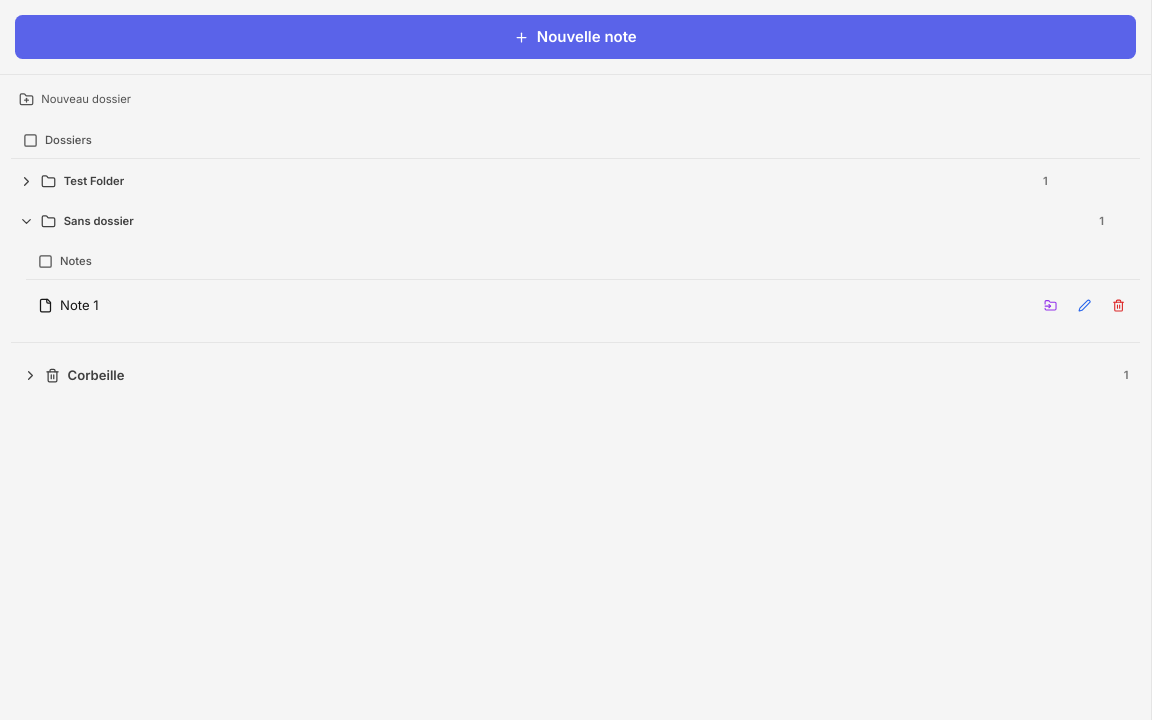
Test: Sidebar › Trash Management › should show deleted items in trash
The image size is (1152, 720).
Click the text "Corbeille".
click(96, 375)  # box x1=68 y1=366 x2=124 y2=385
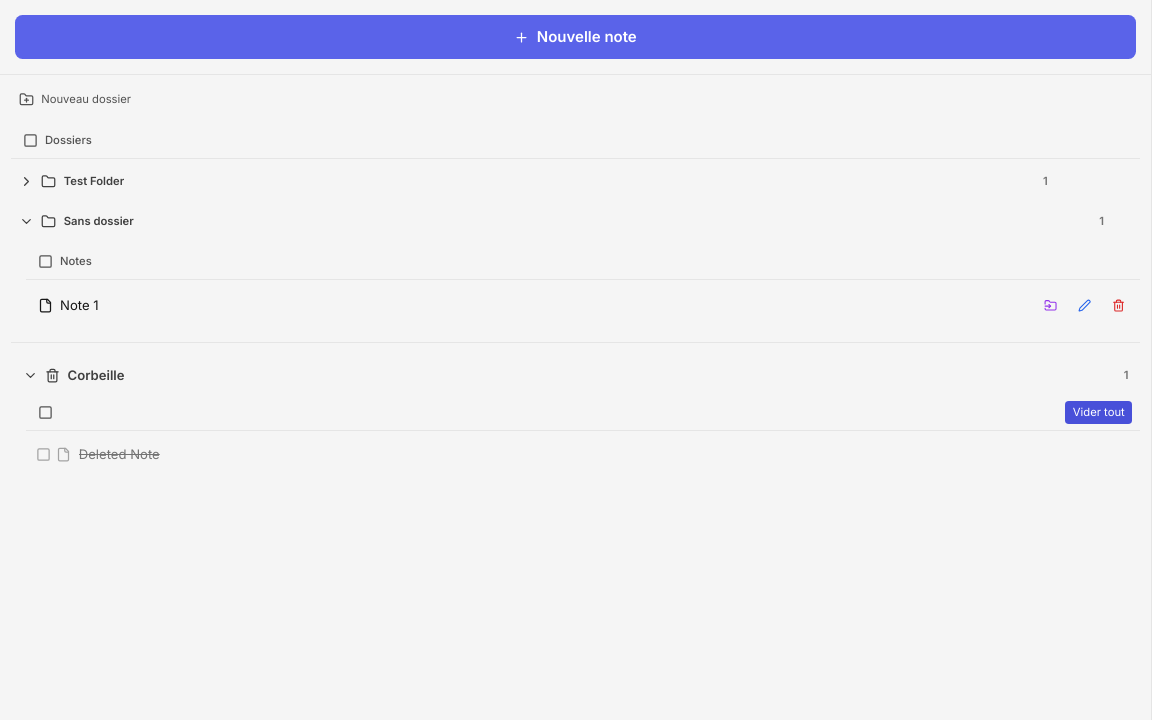
Result: the text "Deleted Note" is shown at x1=79 y1=445 x2=160 y2=464
